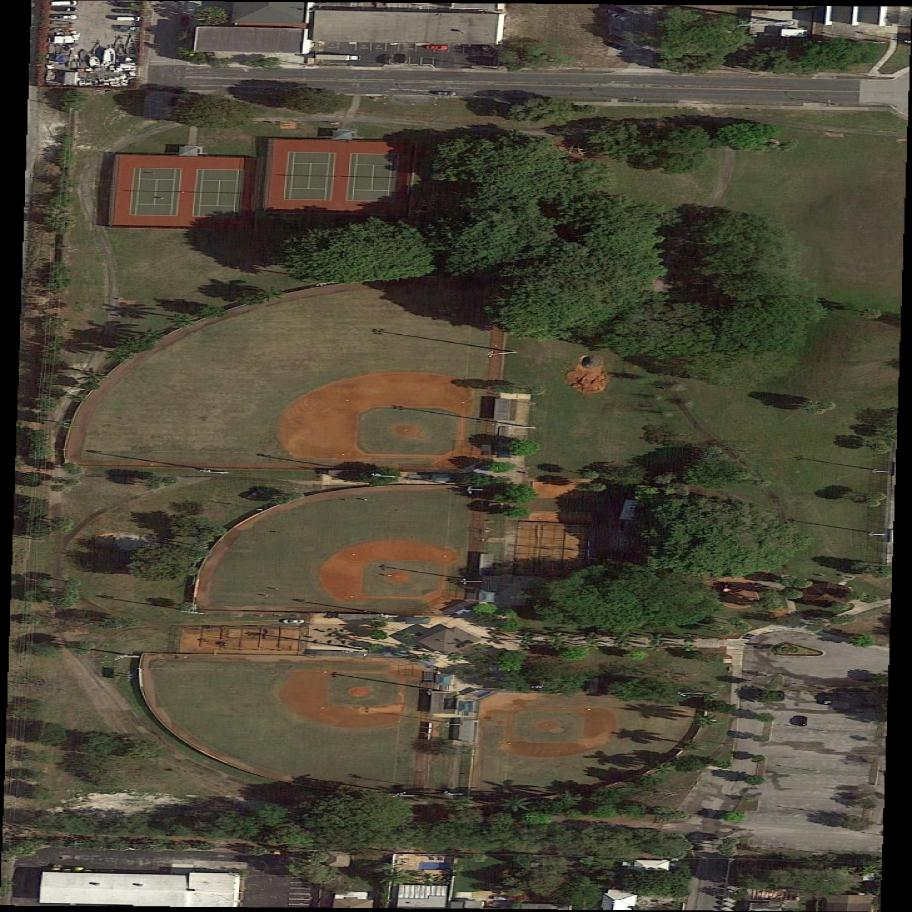large-vehicle: (316, 54, 363, 61)
ship: (101, 45, 118, 65), (89, 54, 101, 68)
small-vehicle: (278, 617, 305, 625), (51, 13, 79, 20), (434, 90, 459, 97), (51, 5, 76, 12), (117, 25, 139, 32), (114, 2, 138, 8), (796, 716, 809, 727), (426, 45, 449, 51), (383, 53, 394, 65), (115, 16, 140, 21), (112, 9, 136, 14), (395, 54, 408, 63)
